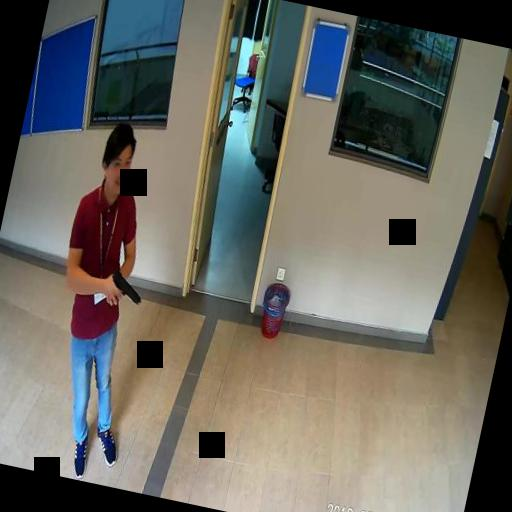Handgun: (104, 266, 146, 308)
